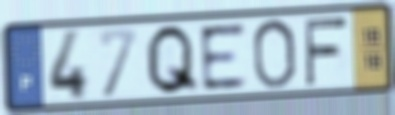4: (46, 27, 93, 103)
7: (97, 24, 141, 99)
E: (196, 20, 250, 93)
F: (301, 14, 350, 89)
O: (250, 16, 298, 91)
Q: (143, 22, 202, 97)
